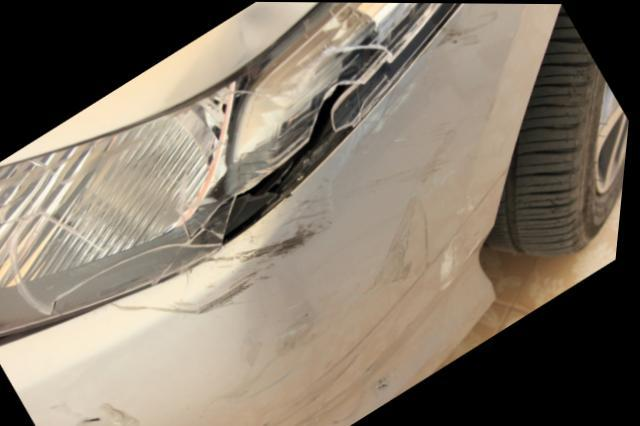dent: (232, 1, 295, 57)
lamp broken: (0, 2, 462, 338)
scratch: (120, 13, 501, 426), (60, 397, 149, 426)
